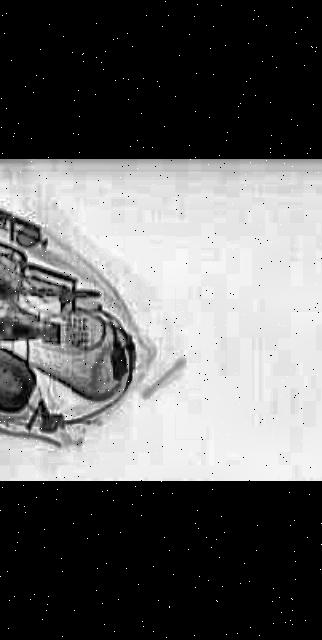Pliers: (0, 282, 53, 358)
